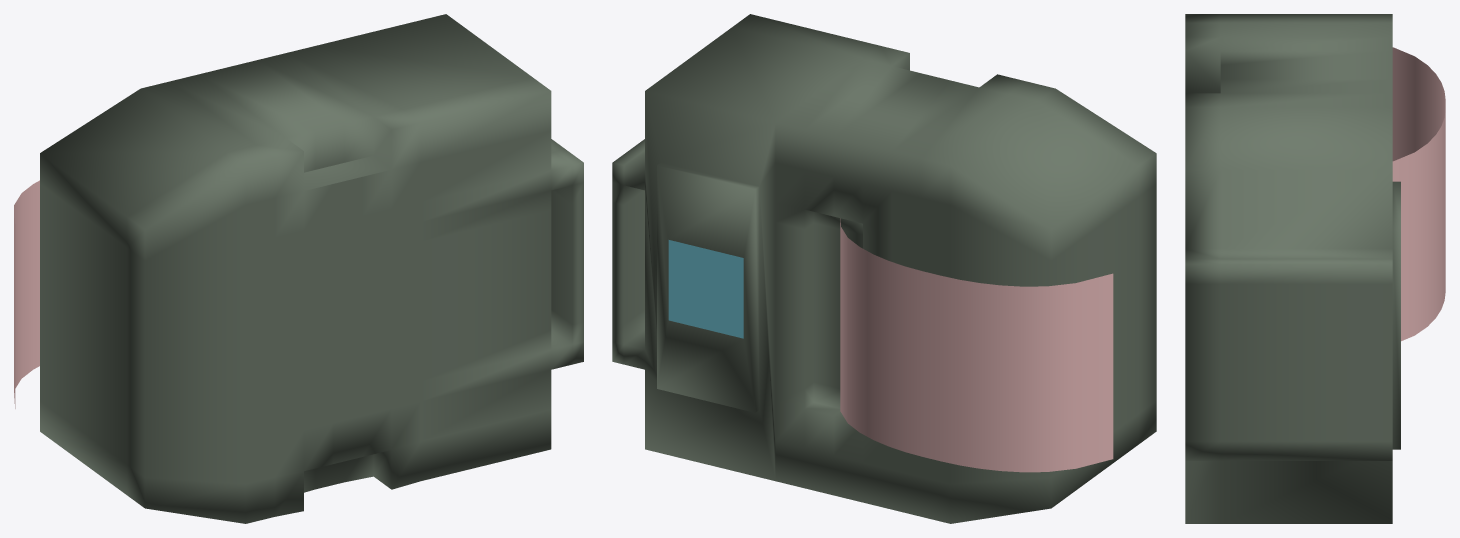
3 renders of one model, left to right at view 1: azimuth 30°, elevation 25°; view 2: azimuth 150°, elevation 25°; view 3: azimuth 270°, elevation 25°, orthographic.
Parts seen in each view (by area): view 1: Cube; view 2: Cube; view 3: Cube.
Part boxes in pixels (x1,y1,x2,y2): Cube: (14,14,583,523); Cube: (612,14,1156,523); Cube: (1185,14,1445,523).
Size of the model in its own units: 22.53 by 16.06 by 10.67.
